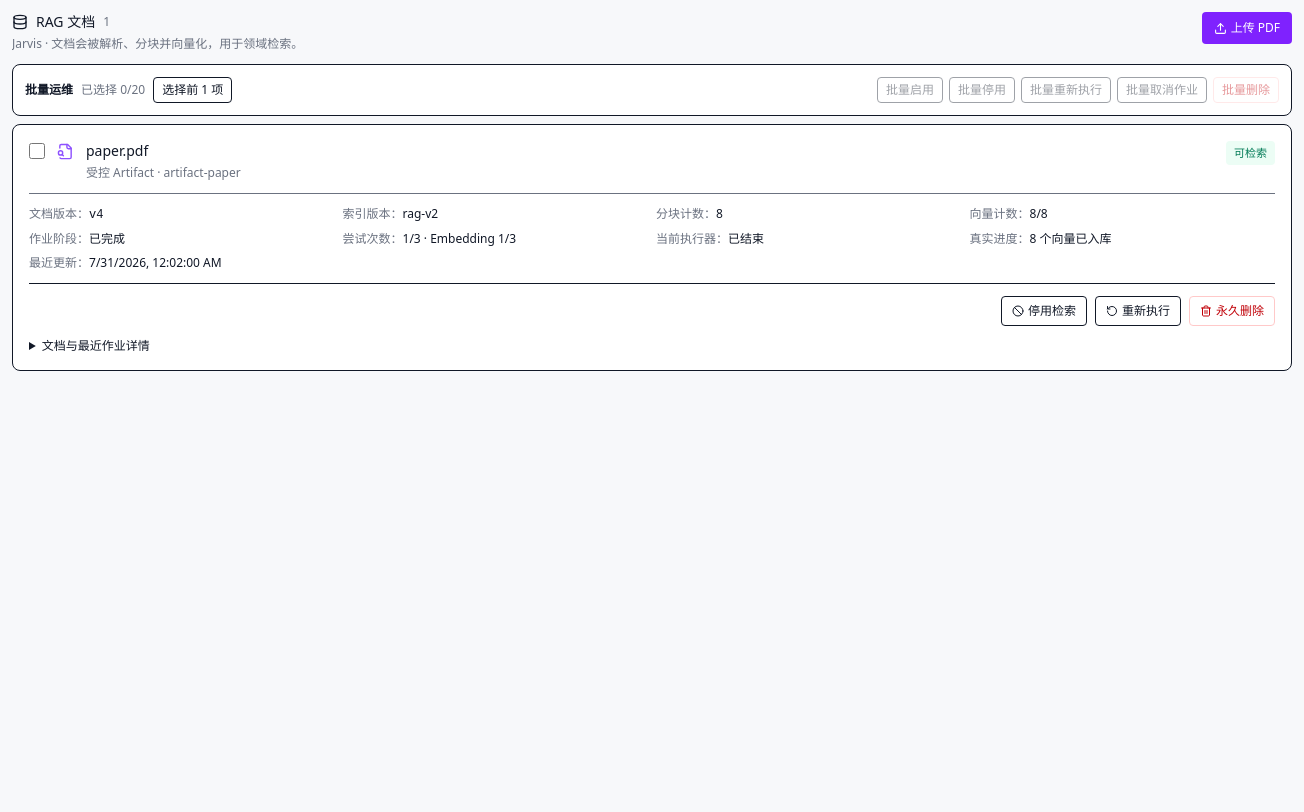
Test: RagDocumentLibrary › shows trusted source, versions, counts, and recent job details
Click the heading "文档与最近作业详情": (96, 346) x1=42 y1=337 x2=150 y2=354
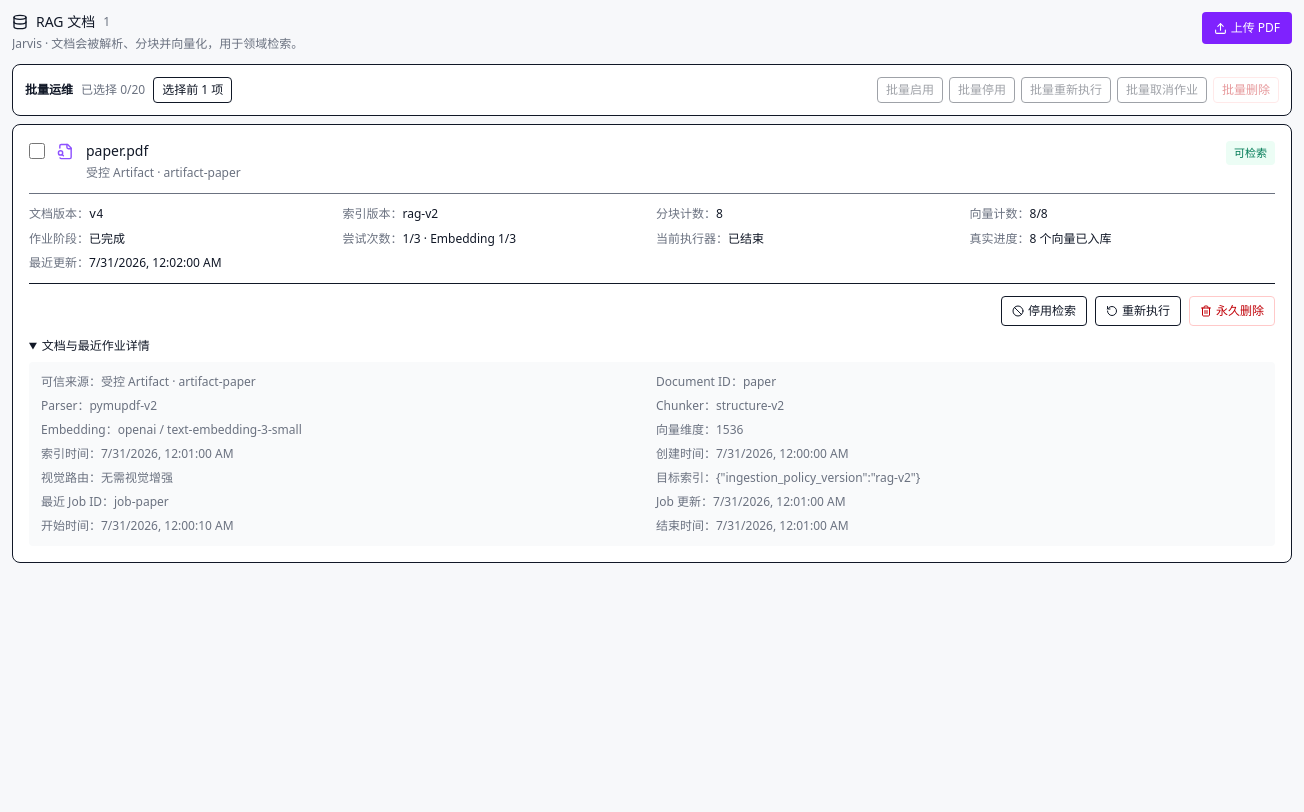
Check: the text "Parser：pymupdf-v2" is shown, box x1=41 y1=397 x2=157 y2=414
Check: the text "最近 Job ID：job-paper" is shown, box x1=41 y1=493 x2=169 y2=510
